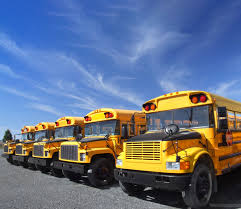bus: (114, 89, 241, 209), (52, 107, 148, 190), (32, 116, 85, 175), (15, 120, 54, 168), (4, 124, 34, 168)
